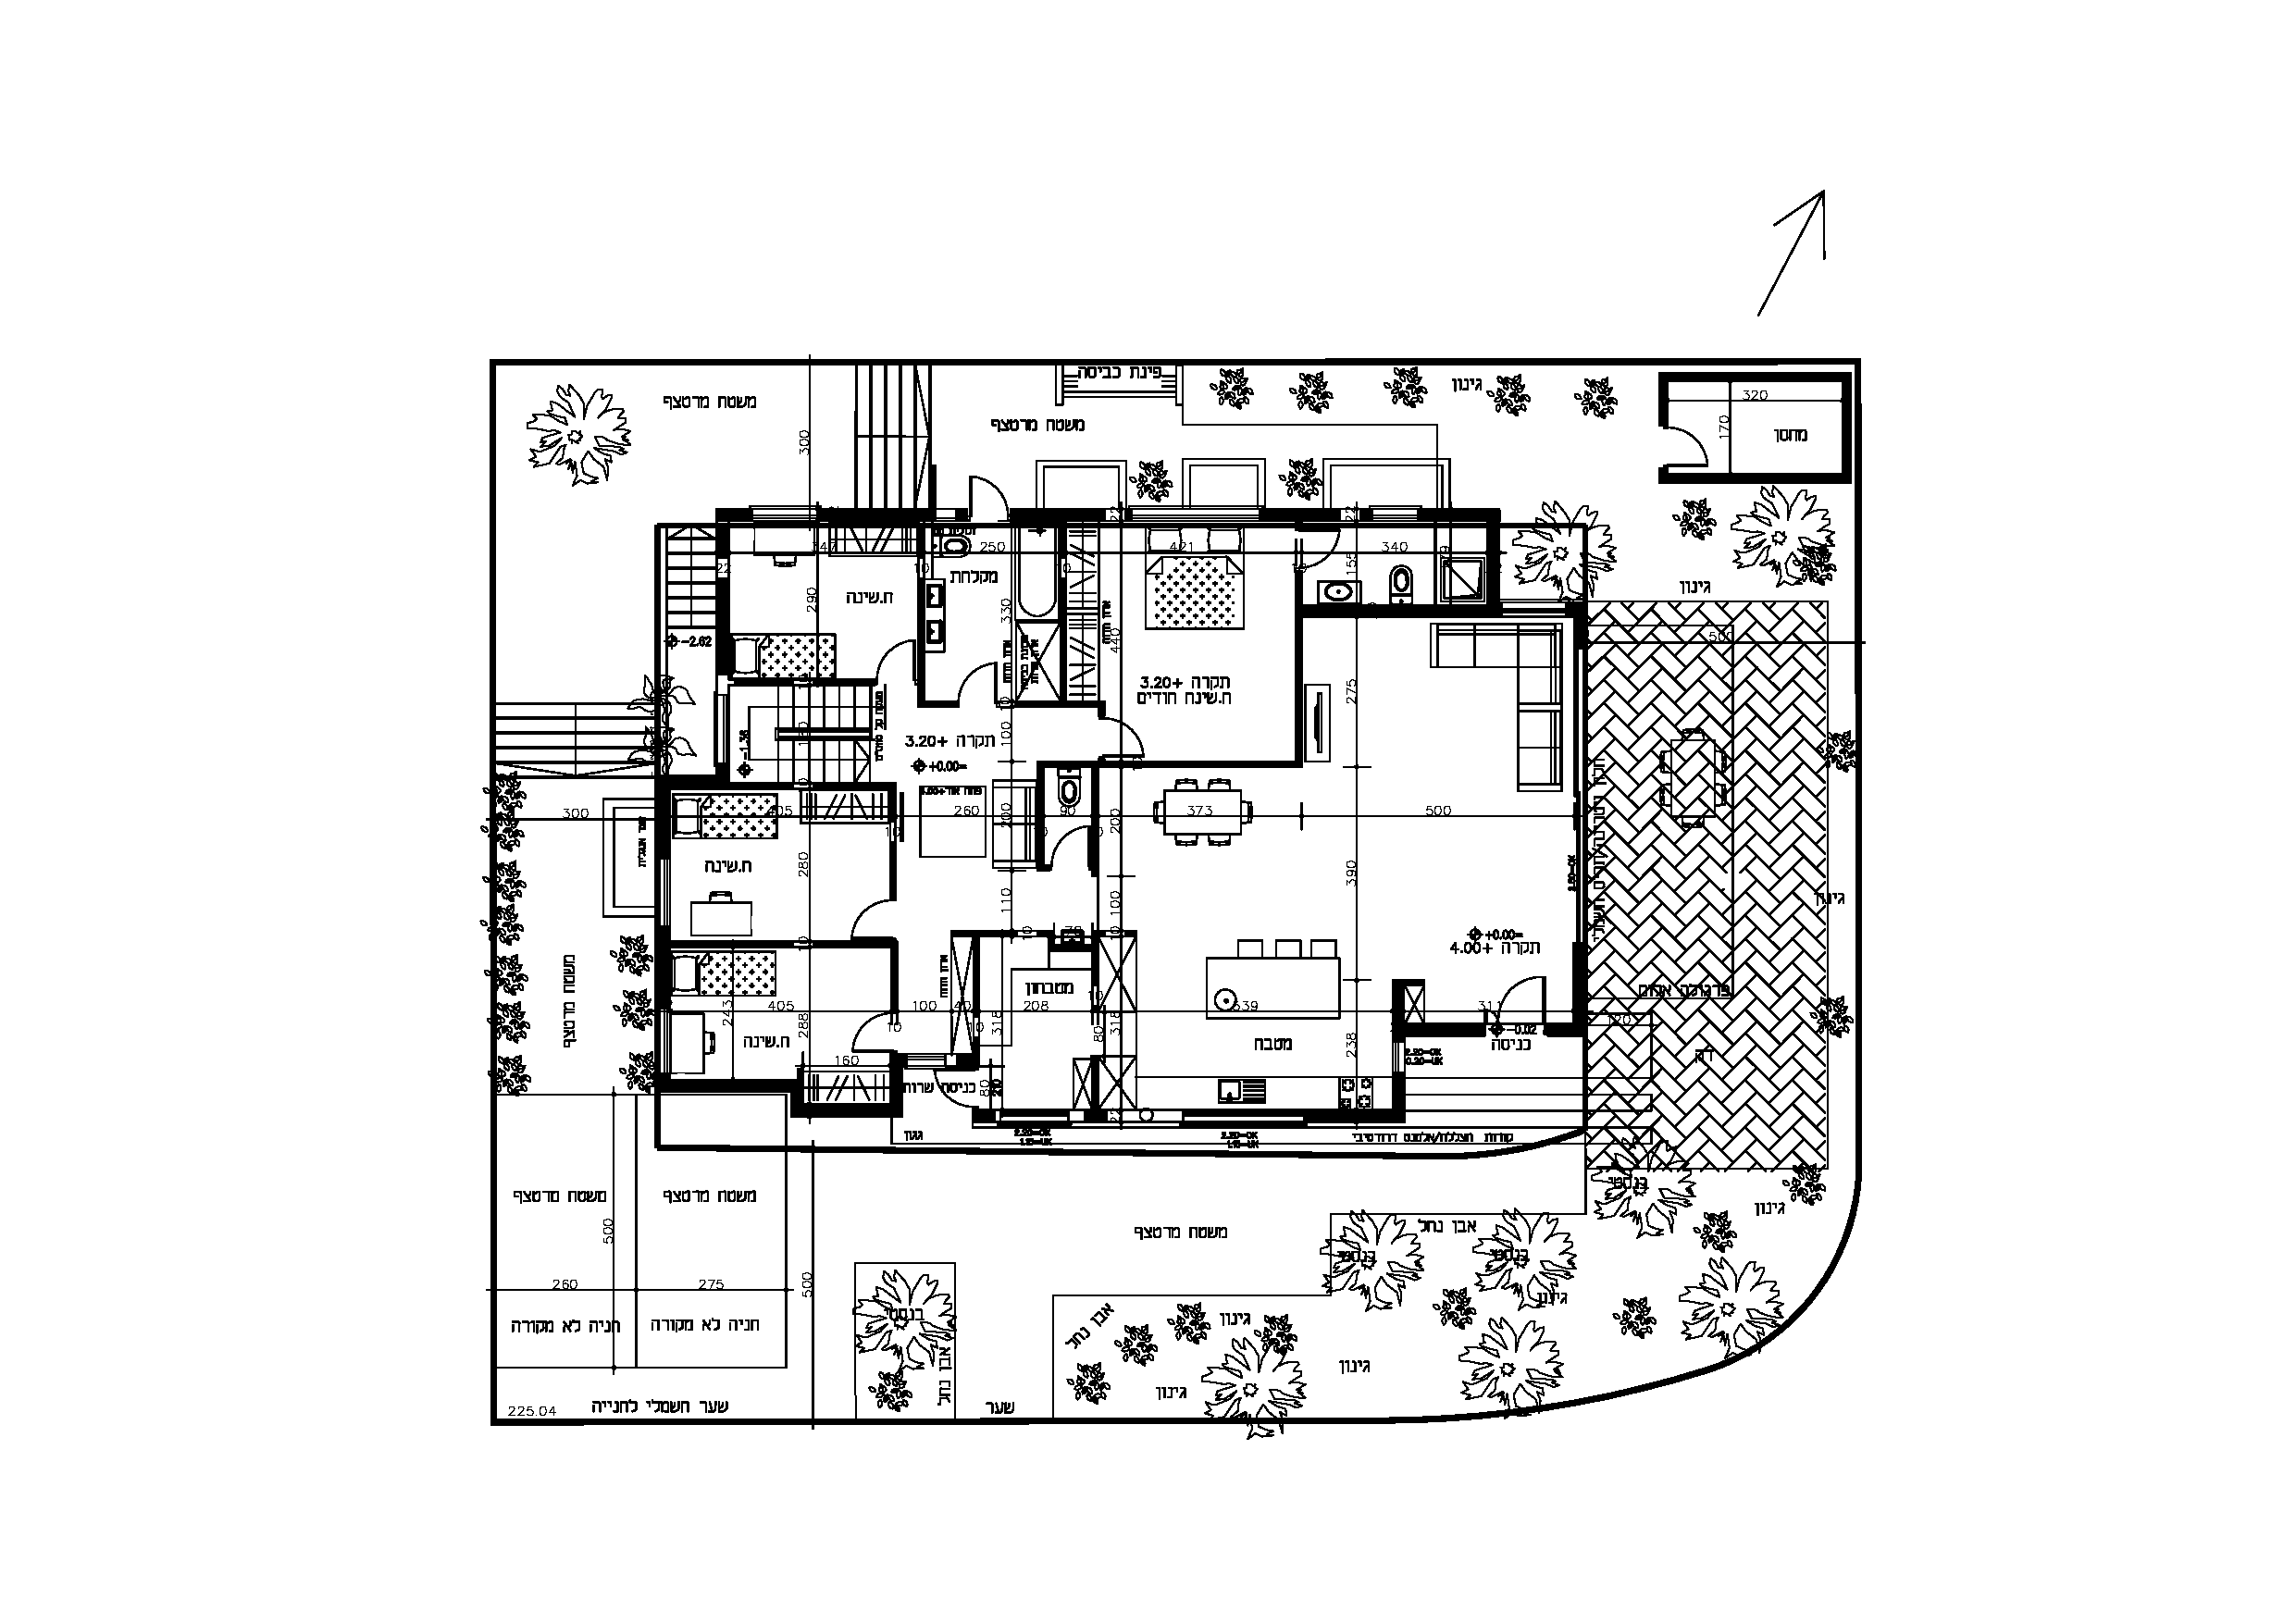door: (1486, 973, 1548, 1017), (1669, 422, 1715, 471), (956, 659, 1000, 703), (843, 899, 891, 940), (1047, 824, 1091, 864), (963, 471, 1008, 509), (871, 643, 919, 680), (848, 1012, 887, 1056)
window: (1128, 502, 1261, 516)
